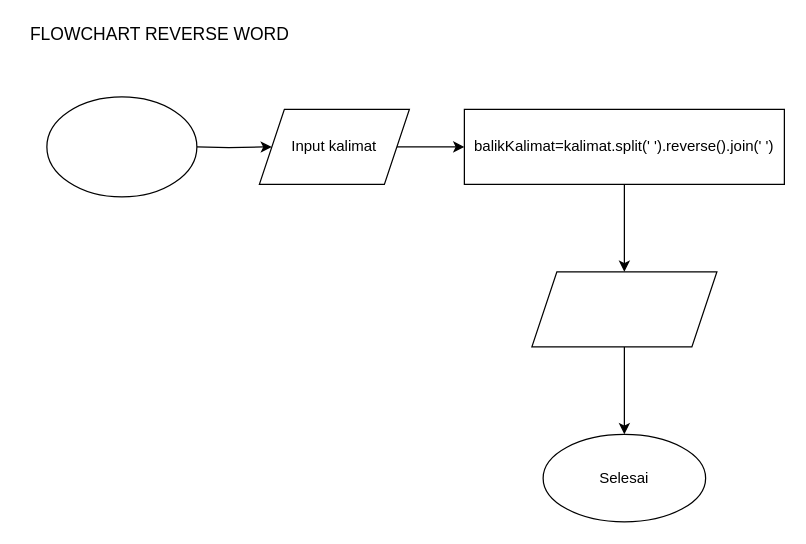
This 806x544 diagram has some shape labels left out. Each missing label, with the centre of its shape:
Mulai: the point at 121,146
output balikKalimat: the point at 624,309
